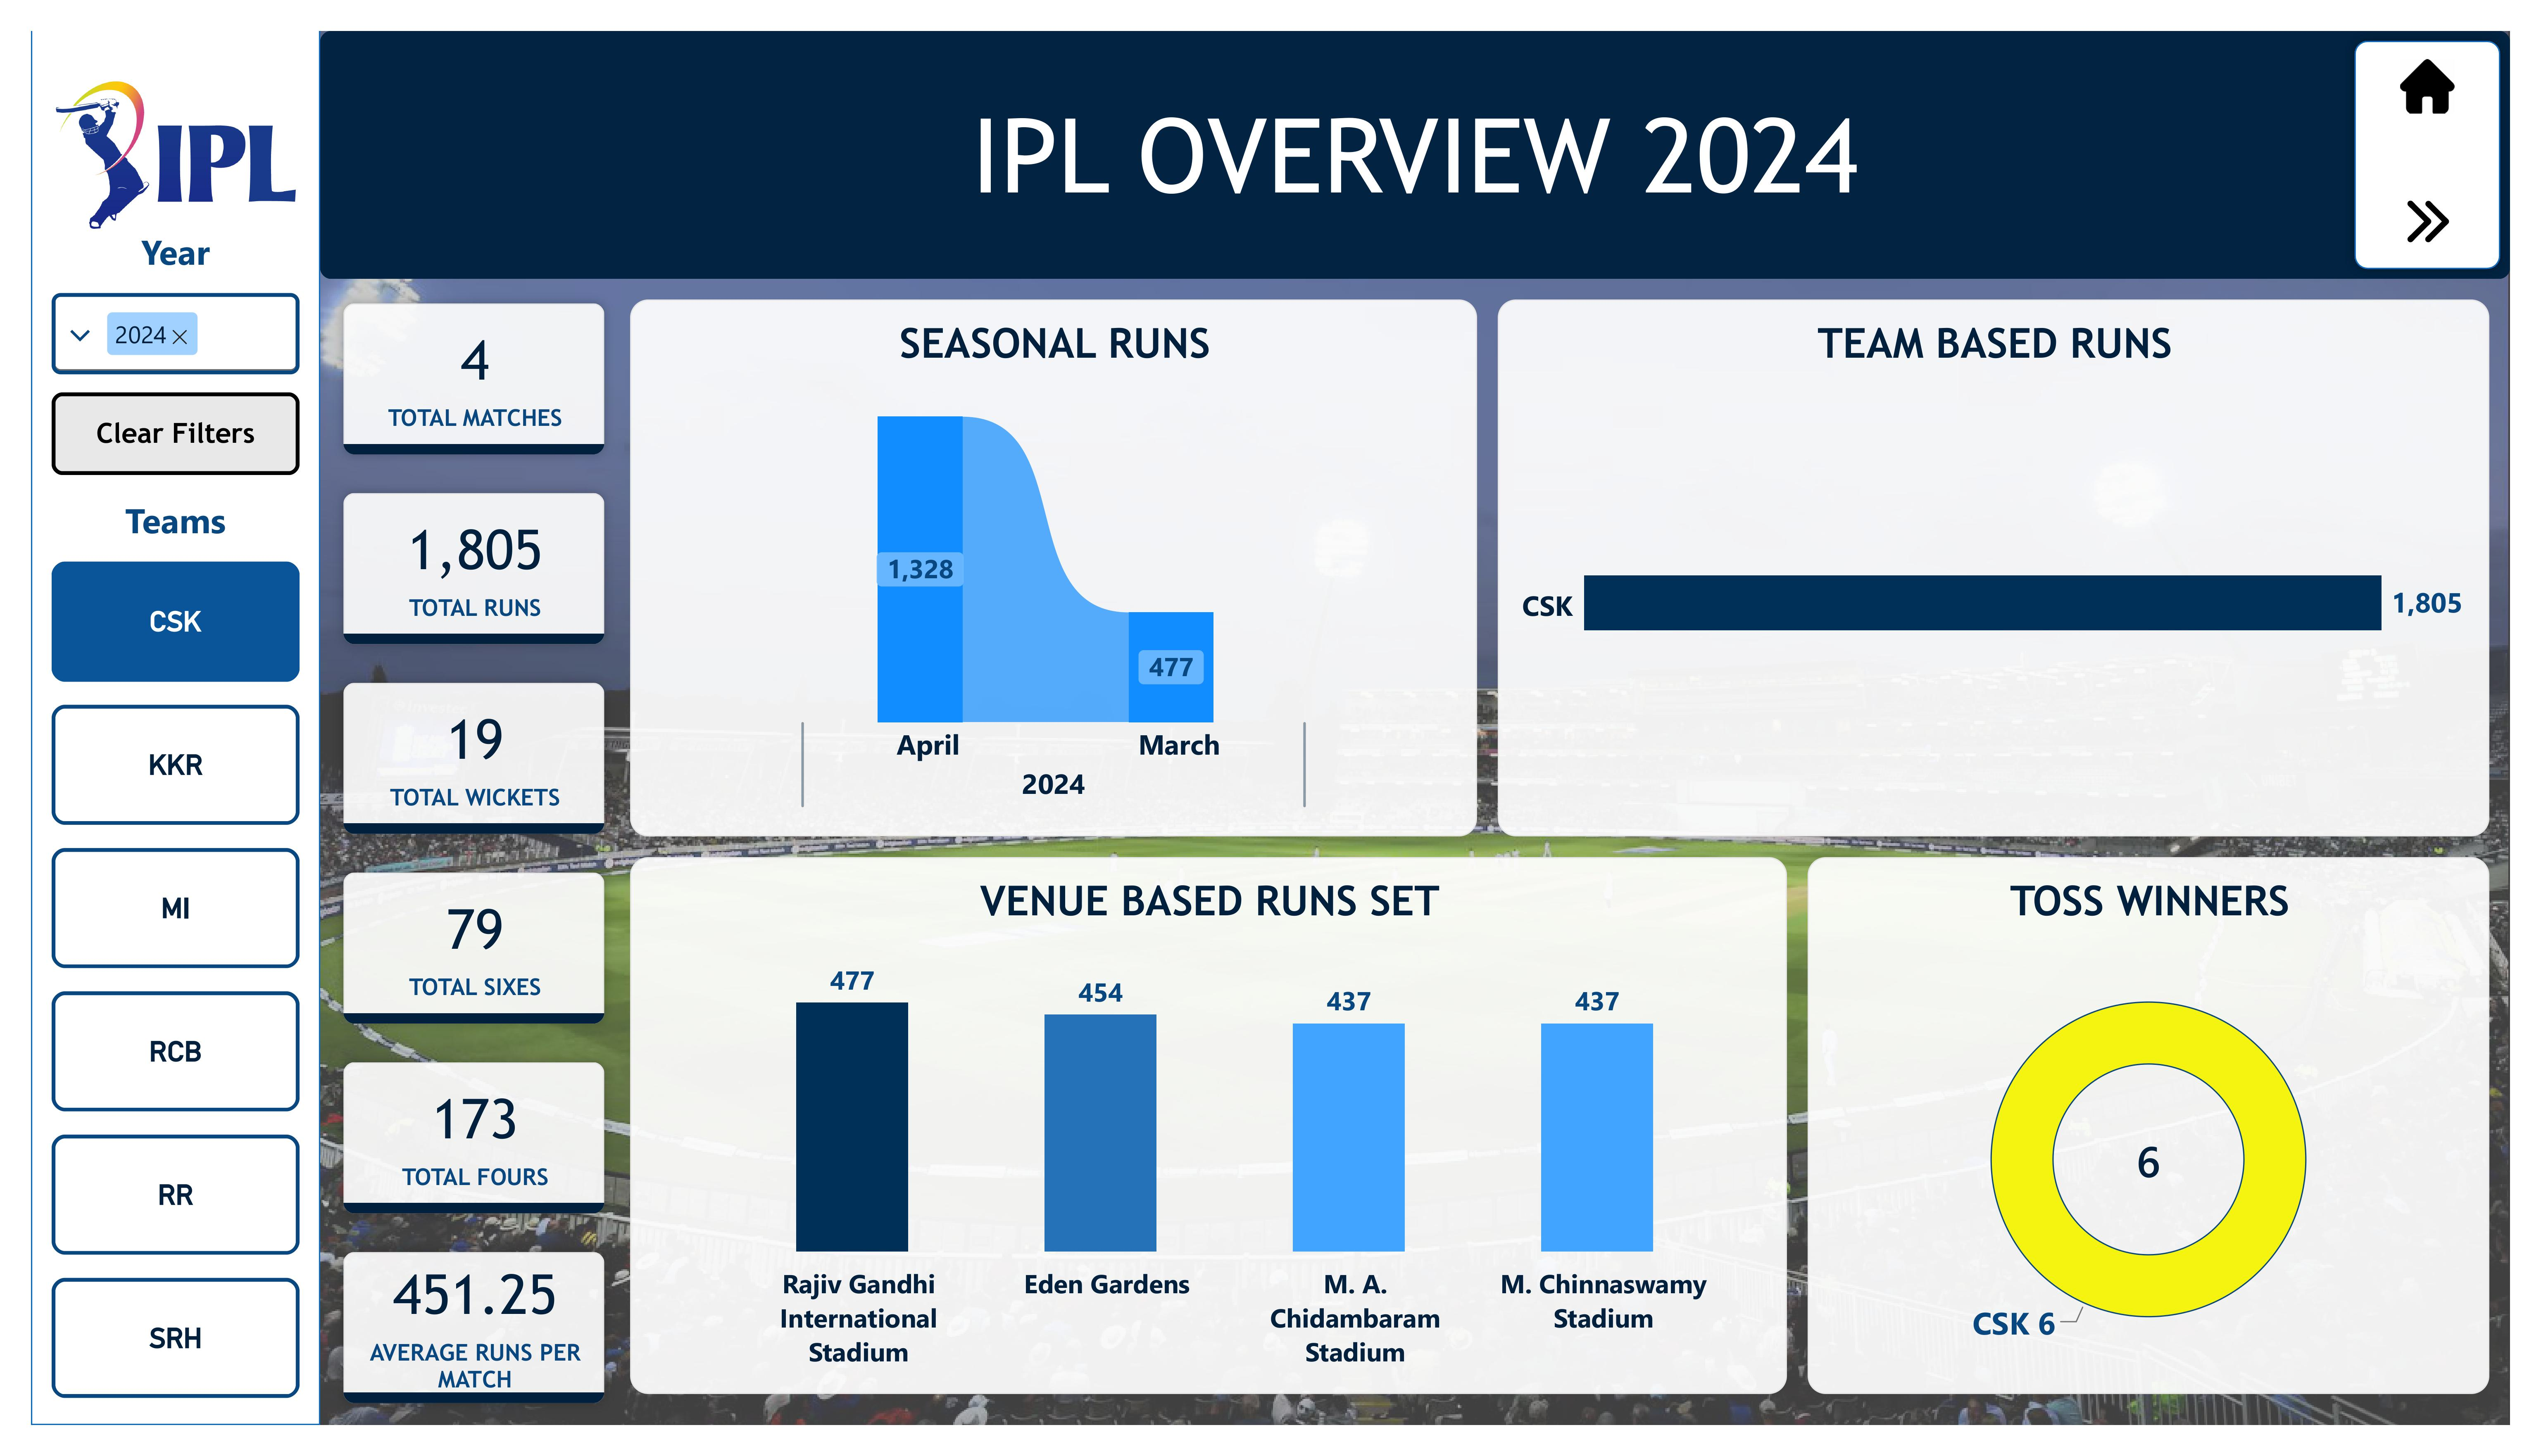

This screenshot's page, from the dashboard's own definition file:
{"tool":"powerbi","page":{"name":"IPL Overview","canvas":[1920,1080],"ordinal":0},"visuals":[{"type":"shape","box":[0,-8,224,1088],"z":0,"group":"g1"},{"type":"cardVisual","fields":{"Data":["LEVEL 1.IPL OVERVIEW TITLE"]},"box":[224,0,1696,192],"z":0,"group":"g5"},{"type":"shape","box":[1792,0,128,192.3],"z":0,"group":"g4"},{"type":"group","id":"g1","title":"Group 2","box":[0,-8,224,1088],"z":1000,"group":"g2"},{"type":"image","box":[1822.1,22.2,67.9,41.9],"z":1000,"group":"g3"},{"type":"cardVisual","fields":{"Data":["LEVEL 1.TOTAL MATCHES","LEVEL 1.TOTAL RUNS","LEVEL 1.TOTAL WICKETS","LEVEL 1.TOTAL SIXES","LEVEL 1.TOTAL FOURS","LEVEL 6 Time Intelligence.AVERAGE RUNS PER MATCH"]},"box":[231,200,224,875],"z":2000},{"type":"image","box":[1802.7,119.9,106.7,55.8],"z":3000,"group":"g3"},{"type":"ribbonChart","title":"SEASONAL RUNS","fields":{"Category":["Date.Year","Date.Month"],"Y":["LEVEL 1.TOTAL RUNS"]},"box":[464,208,656,416],"z":3000},{"type":"clusteredBarChart","title":"TEAM BASED RUNS","fields":{"Category":["Teams.Team_ID"],"Y":["LEVEL 1.TOTAL RUNS"]},"box":[1136,208,768,416],"z":4000},{"type":"clusteredColumnChart","title":"VENUE BASED RUNS SET","fields":{"Category":["Matches.Venue"],"Y":["LEVEL 1.TOTAL RUNS"]},"box":[464,640,896,416],"z":5000},{"type":"donutChart","title":"TOSS WINNERS","fields":{"Category":["Teams.Team_ID"],"Y":["Sum(Teams.TOSS WINS)"]},"box":[1376,640,528,416],"z":6000},{"type":"advancedSlicerVisual","title":"Teams","fields":{"Values":["Teams.Team_ID"]},"box":[16,360,192,704],"z":7000,"group":"g2"},{"type":"image","box":[16,0,192,192],"z":8000,"group":"g2"},{"type":"listSlicer","fields":{"Values":["Date.Year"]},"box":[0,152,224,128],"z":9000,"group":"g1"},{"type":"actionButton","box":[16,280,192,64],"z":10000,"group":"g2"},{"type":"group","id":"g2","title":"Group 4","box":[0,-8,224,1088],"z":11001,"group":"g6"},{"type":"group","id":"g3","title":"Group 1","box":[1802.7,22.2,106.7,153.5],"z":12000,"group":"g4"},{"type":"group","id":"g4","title":"Group 3","box":[1792,0,128,192.3],"z":12001,"group":"g5"},{"type":"group","id":"g5","title":"Group 6","box":[224,0,1696,192.3],"z":12002,"group":"g6"},{"type":"group","id":"g6","title":"Group 5","box":[0,-8,1920,1088],"z":12003}]}

Visuals, with their boxes on the page's 1920x1080 design canvas (x1, y1, x2, y2). These are canvas units, not pixel positions in the 2541x1456 screenshot, which may show the page scaled, cropped or inside an application window:
shape: (left=0, top=-8, right=224, bottom=1080)
cardVisual - LEVEL 1.IPL OVERVIEW TITLE: (left=224, top=0, right=1920, bottom=192)
shape: (left=1792, top=0, right=1920, bottom=192)
"Group 2" group: (left=0, top=-8, right=224, bottom=1080)
image: (left=1822, top=22, right=1890, bottom=64)
cardVisual - LEVEL 1.TOTAL MATCHES x LEVEL 1.TOTAL RUNS: (left=231, top=200, right=455, bottom=1075)
image: (left=1803, top=120, right=1909, bottom=176)
"SEASONAL RUNS" ribbonChart: (left=464, top=208, right=1120, bottom=624)
"TEAM BASED RUNS" clusteredBarChart: (left=1136, top=208, right=1904, bottom=624)
"VENUE BASED RUNS SET" clusteredColumnChart: (left=464, top=640, right=1360, bottom=1056)
"TOSS WINNERS" donutChart: (left=1376, top=640, right=1904, bottom=1056)
"Teams" advancedSlicerVisual: (left=16, top=360, right=208, bottom=1064)
image: (left=16, top=0, right=208, bottom=192)
listSlicer - Date.Year: (left=0, top=152, right=224, bottom=280)
actionButton: (left=16, top=280, right=208, bottom=344)
"Group 4" group: (left=0, top=-8, right=224, bottom=1080)
"Group 1" group: (left=1803, top=22, right=1909, bottom=176)
"Group 3" group: (left=1792, top=0, right=1920, bottom=192)
"Group 6" group: (left=224, top=0, right=1920, bottom=192)
"Group 5" group: (left=0, top=-8, right=1920, bottom=1080)
